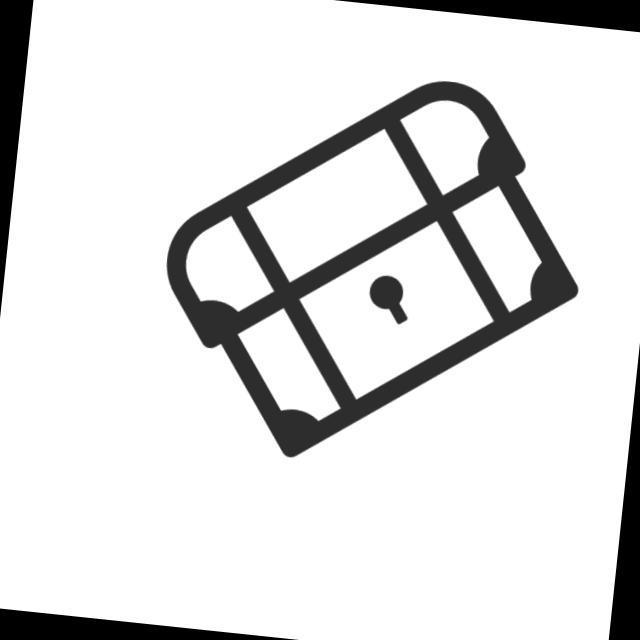treasure_box: (140, 45, 606, 493)
